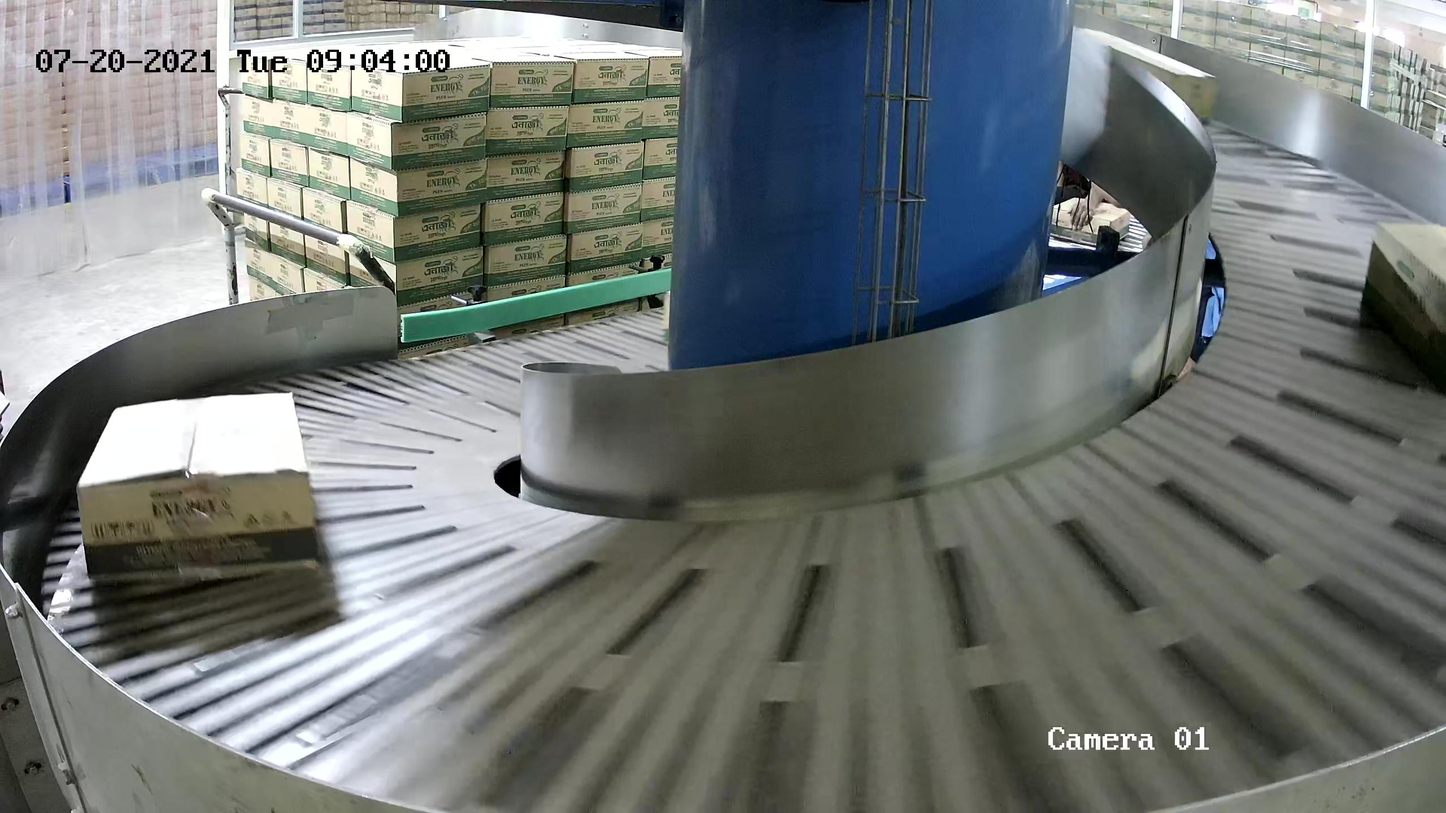Box: (74, 390, 323, 587), (1358, 219, 1446, 387)
